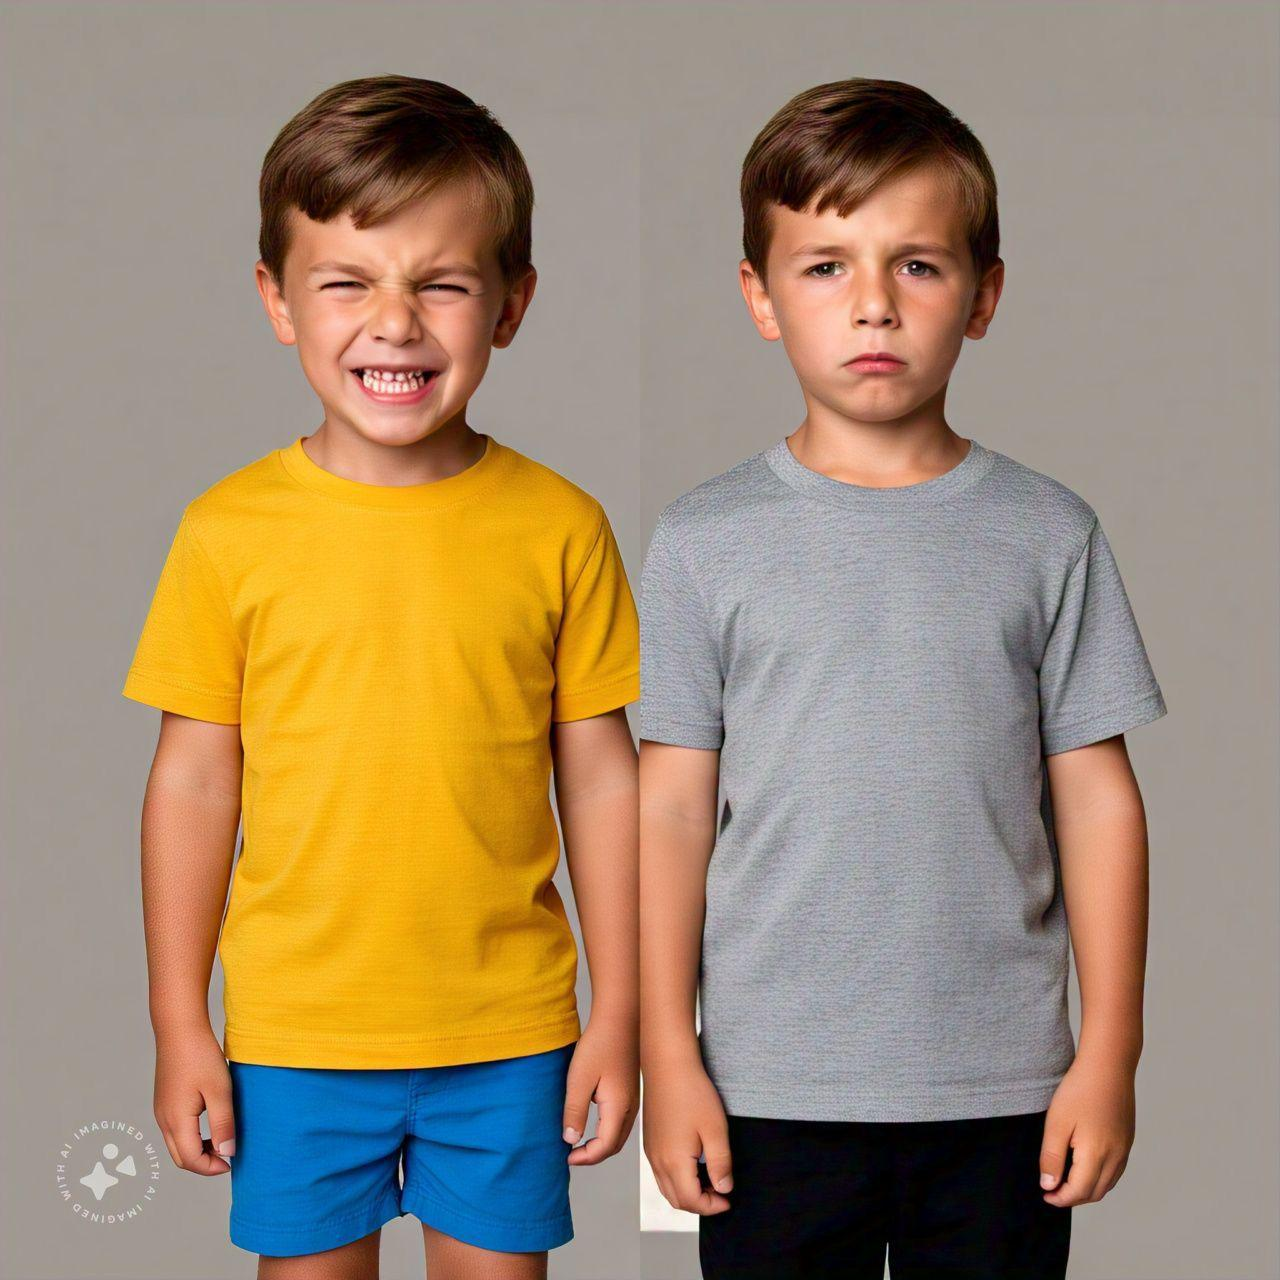raiva: (272, 122, 516, 450)
triste: (748, 105, 992, 425)
